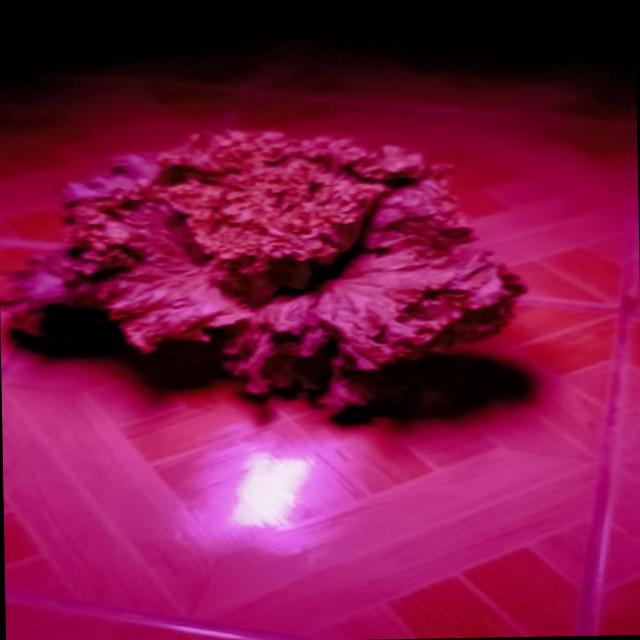Lettuce-Ready-to-Harvest: (3, 130, 523, 408)
